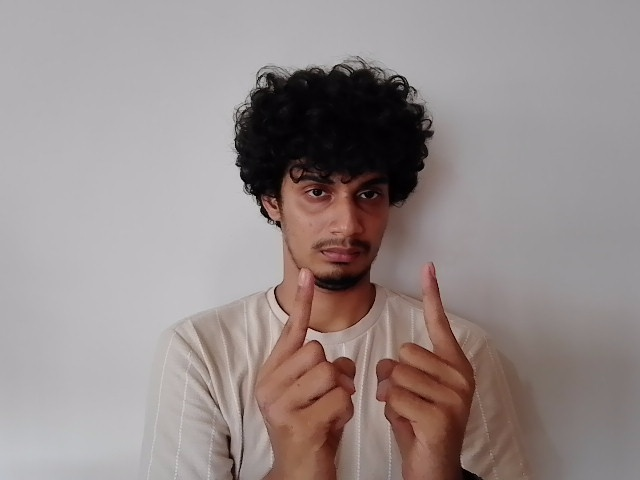play: (252, 265, 483, 457)
